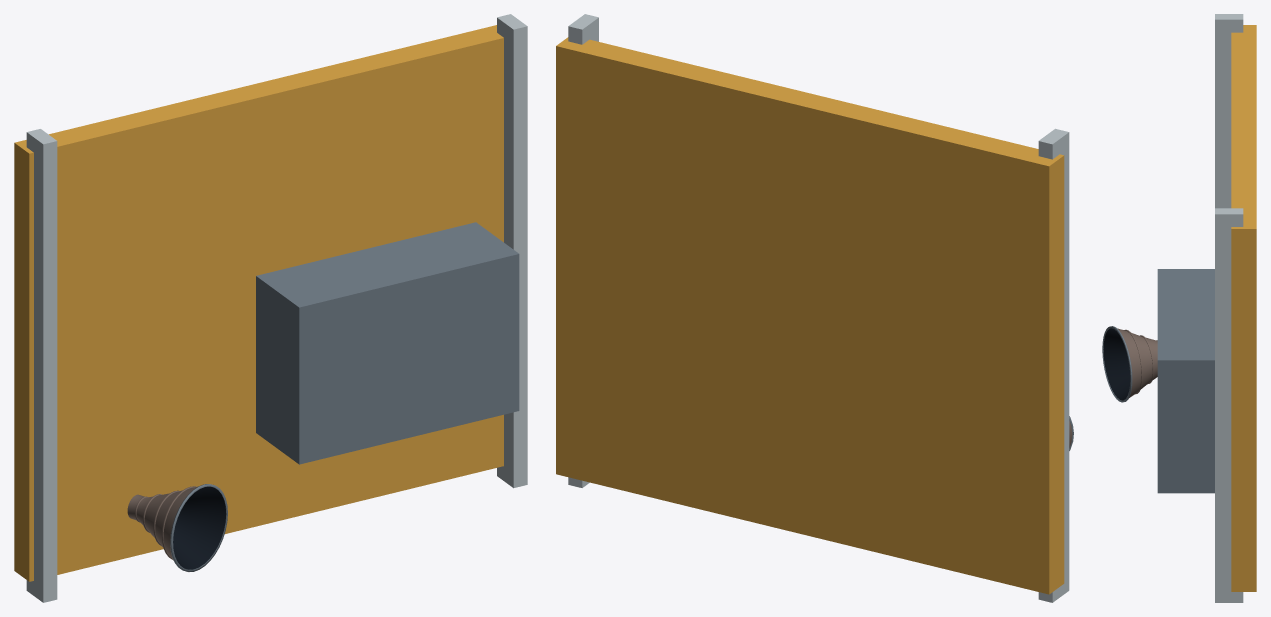
File: voyager_bus.equipment_bay_01.glb
3 renders of one model, left to right at view 1: azimuth 30°, elevation 25°; view 2: azimuth 150°, elevation 25°; view 3: azimuth 270°, elevation 25°, orthographic. The views are drawn at different scales.
Visible parts, largest first — view 1: voyager_bus.equipment_bay_01.mesh_Gold_thermal_insulation, voyager_bus.equipment_bay_01.mesh_Machined_steel, voyager_bus.equipment_bay_01.mesh_Satin_aluminum, voyager_bus.equipment_bay_01.attitude_thruster.bell.mesh_Sha, voyager_bus.equipment_bay_01.attitude_thruster.bell.mesh_Hea; view 2: voyager_bus.equipment_bay_01.mesh_Gold_thermal_insulation, voyager_bus.equipment_bay_01.mesh_Satin_aluminum; view 3: voyager_bus.equipment_bay_01.mesh_Gold_thermal_insulation, voyager_bus.equipment_bay_01.mesh_Machined_steel, voyager_bus.equipment_bay_01.mesh_Satin_aluminum, voyager_bus.equipment_bay_01.attitude_thruster.bell.mesh_Hea, voyager_bus.equipment_bay_01.attitude_thruster.bell.mesh_Sha, voyager_bus.equipment_bay_01.attitude_thruster.bell.mesh_Mac.
Boxes of the visible parts, left/top/right/bottom form: voyager_bus.equipment_bay_01.mesh_Gold_thermal_insulation: left=14, top=25, right=503, bottom=581; voyager_bus.equipment_bay_01.mesh_Machined_steel: left=256, top=222, right=519, bottom=464; voyager_bus.equipment_bay_01.mesh_Satin_aluminum: left=26, top=14, right=527, bottom=602; voyager_bus.equipment_bay_01.attitude_thruster.bell.mesh_Sha: left=173, top=486, right=225, bottom=569; voyager_bus.equipment_bay_01.attitude_thruster.bell.mesh_Hea: left=127, top=486, right=197, bottom=560; voyager_bus.equipment_bay_01.mesh_Gold_thermal_insulation: left=556, top=37, right=1064, bottom=594; voyager_bus.equipment_bay_01.mesh_Satin_aluminum: left=568, top=14, right=1069, bottom=602; voyager_bus.equipment_bay_01.mesh_Gold_thermal_insulation: left=1231, top=25, right=1256, bottom=591; voyager_bus.equipment_bay_01.mesh_Machined_steel: left=1157, top=269, right=1214, bottom=493; voyager_bus.equipment_bay_01.mesh_Satin_aluminum: left=1215, top=14, right=1243, bottom=602; voyager_bus.equipment_bay_01.attitude_thruster.bell.mesh_Hea: left=1117, top=328, right=1157, bottom=397; voyager_bus.equipment_bay_01.attitude_thruster.bell.mesh_Sha: left=1103, top=328, right=1130, bottom=400; voyager_bus.equipment_bay_01.attitude_thruster.bell.mesh_Mac: left=1102, top=326, right=1132, bottom=402.
Bounding box in the file's own units: 0.493 × 0.438 × 0.1576.
